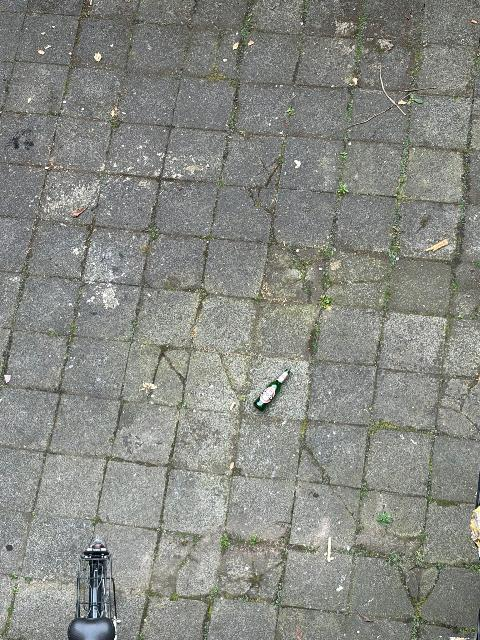glass_bottle: (256, 370, 290, 414)
